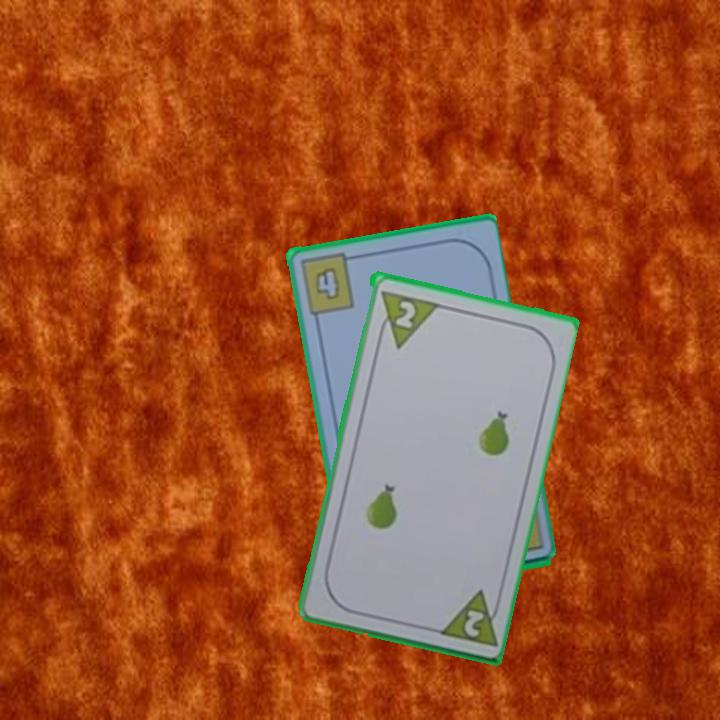2p: (432, 585, 504, 649), (372, 286, 439, 351)
4b: (295, 250, 360, 318)
